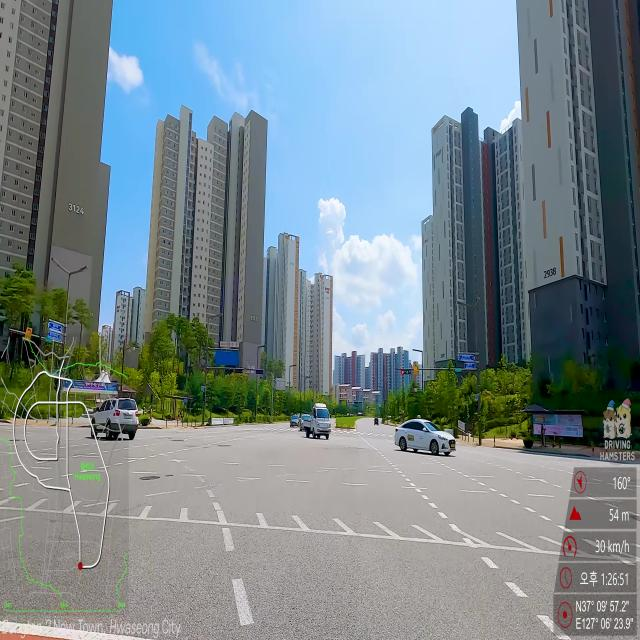Red Light: (402, 370, 404, 374)
